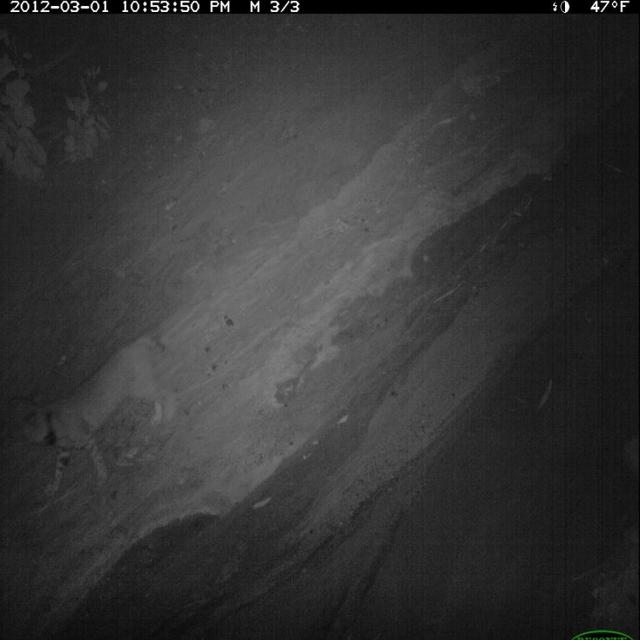bobcat: (20, 327, 181, 506)
